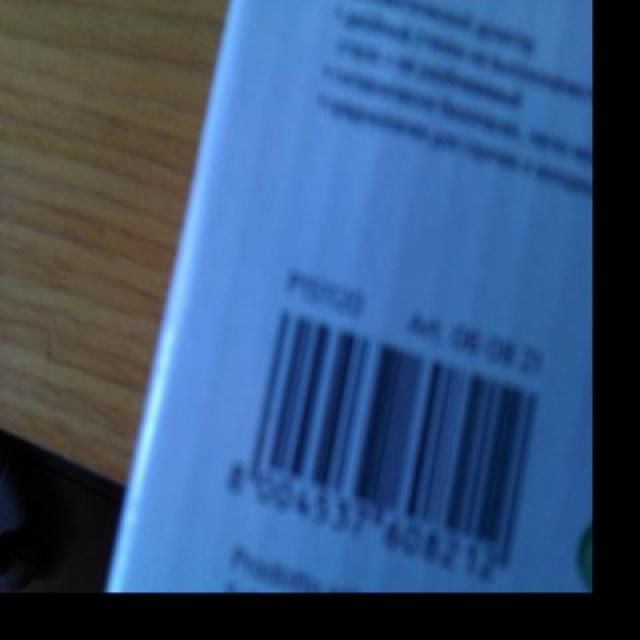Barcode: (210, 299, 551, 585)
